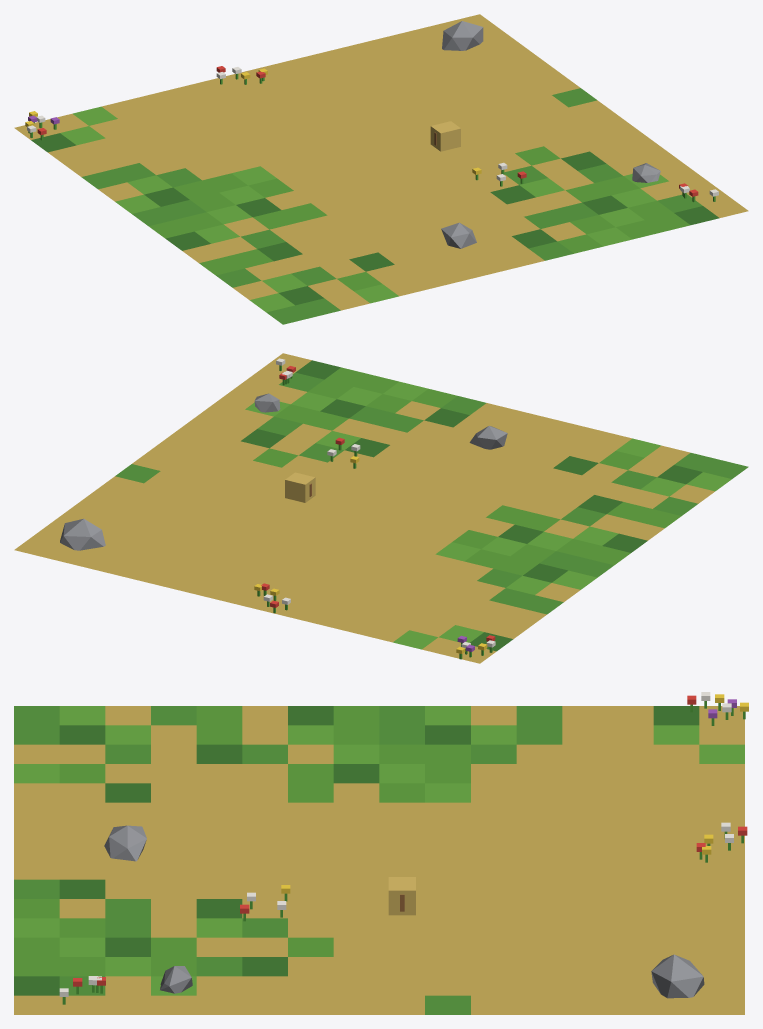
The model's file is chunk_8_13.glb.
3 views of the same model, one above another, from view 1: azimuth 30°, elevation 25°; view 2: azimuth 150°, elevation 25°; view 3: azimuth 270°, elevation 25° (orthographic). The views are drawn at different scales.
Visible parts, largest first — view 1: chunk_8_13; view 2: chunk_8_13; view 3: chunk_8_13.
Part boxes in pixels (box(x1,y1,x2,y2)): chunk_8_13: box(14, 14, 748, 324); chunk_8_13: box(14, 353, 748, 663); chunk_8_13: box(14, 692, 748, 1014).
Size of the model in its own units: 16 by 1.21 by 16.09.
